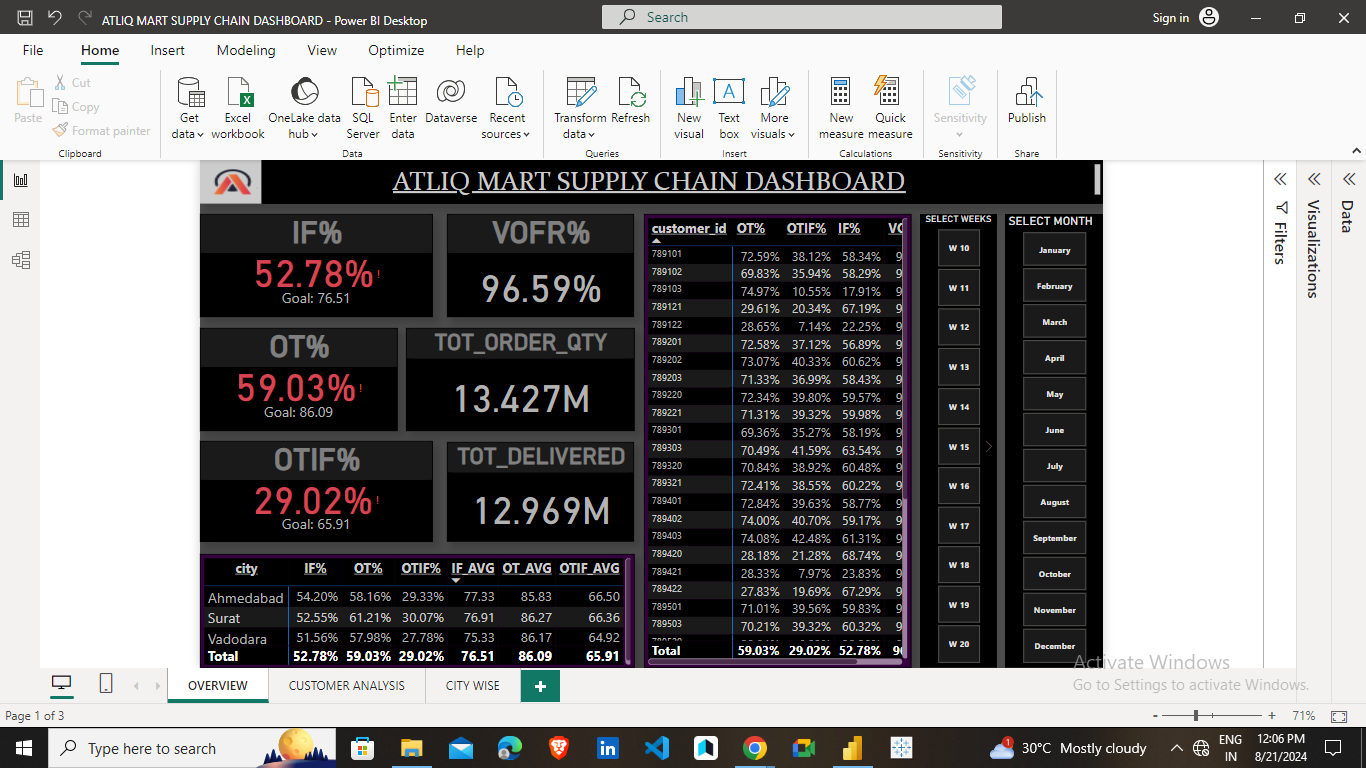

Layout of this report page (visuals, bound fields, positions):
{"tool":"powerbi","page":{"name":"OVERVIEW","canvas":[1280,720],"ordinal":0},"visuals":[{"type":"kpi","title":"IF%","fields":{"Indicator":["dim_customers.IF%"],"Goal":["dim_targets_orders.IF_AVG"],"TrendLine":["fact_order_lines.actual_delivery_date.Variation.Date Hierarchy.Year"]},"box":[0,77.2,330.5,146],"z":0},{"type":"kpi","title":"OT%","fields":{"Indicator":["fact_orders_aggregate.OT%"],"Goal":["dim_targets_orders.OT_AVG"],"TrendLine":["dim_date.date.Variation.Date Hierarchy.Year"]},"box":[0,238.2,280.2,146],"z":1000},{"type":"kpi","title":"OTIF%","fields":{"Goal":["dim_targets_orders.OTIF_AVG"],"TrendLine":["fact_order_lines.actual_delivery_date.Variation.Date Hierarchy.Year"],"Indicator":["fact_orders_aggregate.OTIF%"]},"box":[0,397.6,330.5,142.6],"z":2000},{"type":"pivotTable","fields":{"Rows":["dim_customers.customer_id"],"Values":["fact_orders_aggregate.OT%","fact_orders_aggregate.OTIF%","dim_customers.IF%","fact_order_lines.VOFR%"]},"box":[629.1,77.2,379.1,642.5],"z":3000},{"type":"textbox","box":[0,0,1280,62.1],"z":4001},{"type":"pivotTable","fields":{"Rows":["dim_customers.city"],"Values":["dim_customers.IF%","fact_orders_aggregate.OT%","fact_orders_aggregate.OTIF%","dim_targets_orders.IF_AVG","dim_targets_orders.OT_AVG","dim_targets_orders.OTIF_AVG"]},"box":[0,558.6,615.7,161],"z":4002},{"type":"card","title":"VOFR%","fields":{"Values":["fact_order_lines.VOFR%"]},"box":[350.6,77.2,265.1,146],"z":4003},{"type":"slicer","title":"SELECT WEEKS","fields":{"Values":["dim_date.week_no"]},"box":[1020,77.2,109,642.5],"z":4004},{"type":"slicer","title":"SELECT MONTH","fields":{"Values":["fact_order_lines.agreed_delivery_date.Variation.Date Hierarchy.Month"]},"box":[1140.8,77.2,139.2,642.5],"z":4005},{"type":"card","title":"TOT_ORDER_QTY","fields":{"Values":["fact_order_lines.order_qty"]},"box":[291.9,238.2,323.8,146],"z":4006},{"type":"card","title":"TOT_DELIVERED","fields":{"Values":["fact_order_lines.delivery_qty"]},"box":[350.6,399.3,265.1,140.9],"z":4007},{"type":"image","box":[0,0,87.2,62.1],"z":4008}]}

Visuals, with their boxes on the page's 1280x720 design canvas (x1, y1, x2, y2). These are canvas units, not pixel positions in the 1366x768 screenshot, which may show the page scaled, cropped or inside an application window:
"IF%" kpi: left=0, top=77, right=330, bottom=223
"OT%" kpi: left=0, top=238, right=280, bottom=384
"OTIF%" kpi: left=0, top=398, right=330, bottom=540
pivotTable - dim_customers.customer_id x fact_orders_aggregate.OT%: left=629, top=77, right=1008, bottom=720
textbox: left=0, top=0, right=1280, bottom=62
pivotTable - dim_customers.city x dim_customers.IF%: left=0, top=559, right=616, bottom=720
"VOFR%" card: left=351, top=77, right=616, bottom=223
"SELECT WEEKS" slicer: left=1020, top=77, right=1129, bottom=720
"SELECT MONTH" slicer: left=1141, top=77, right=1280, bottom=720
"TOT_ORDER_QTY" card: left=292, top=238, right=616, bottom=384
"TOT_DELIVERED" card: left=351, top=399, right=616, bottom=540
image: left=0, top=0, right=87, bottom=62
